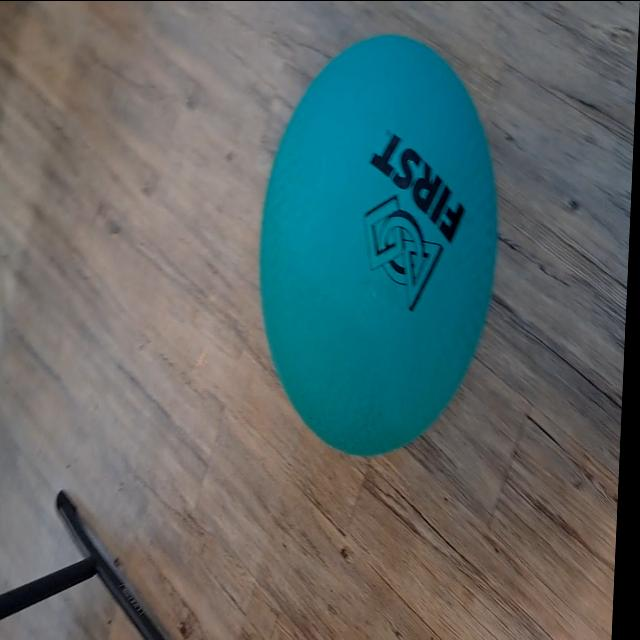ALGAE: (249, 32, 508, 460)
